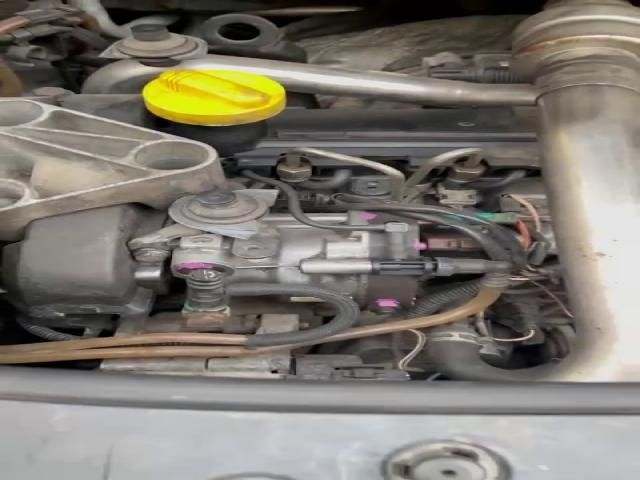high_pressure_pump: (170, 211, 508, 315)
